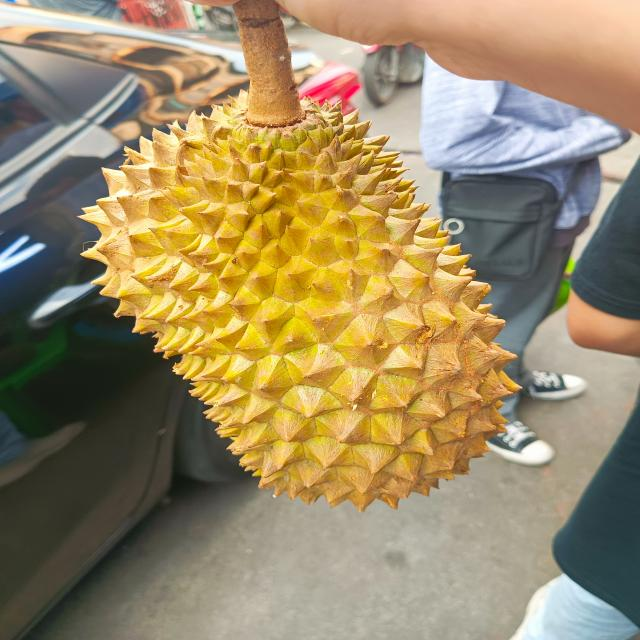mature: (76, 84, 518, 509)
